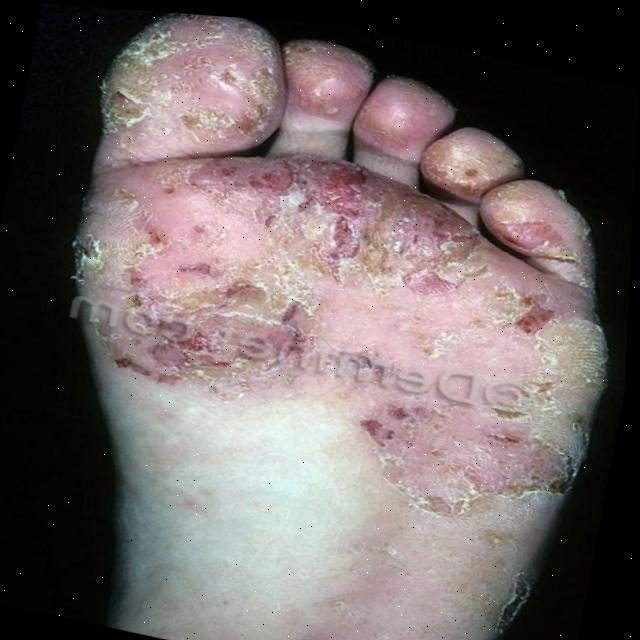Eczema: (28, 4, 640, 541)
